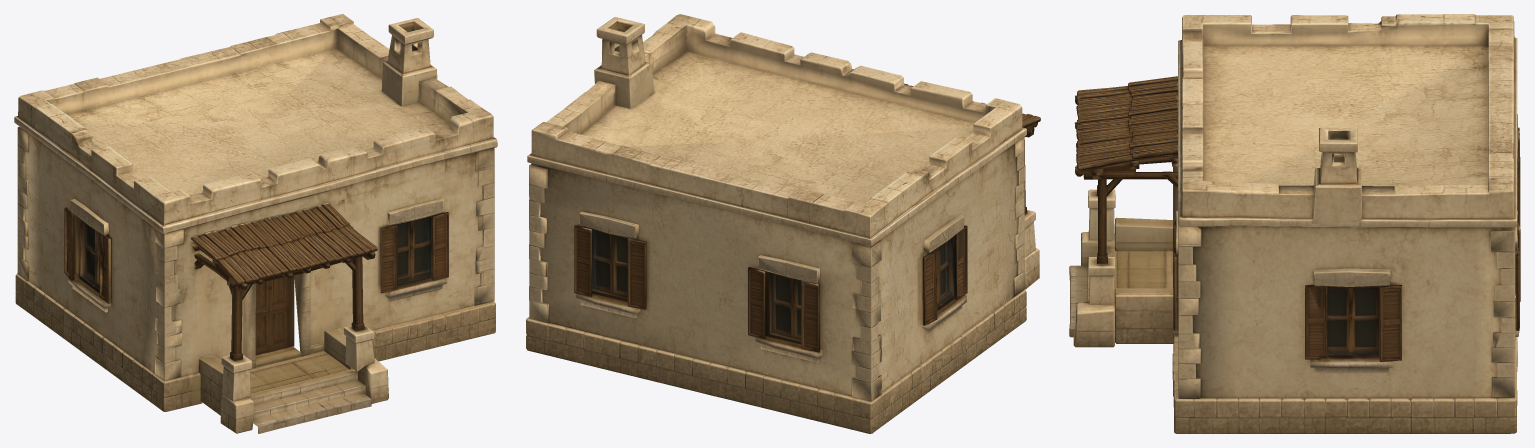
File: generated-1948-03-netanya-flat-roof-porch-house.glb
3 renders of one model, left to right at view 1: azimuth 30°, elevation 25°; view 2: azimuth 150°, elevation 25°; view 3: azimuth 270°, elevation 25°, orthographic. The views are drawn at different scales.
Visible parts, largest first — view 1: tripo_node_f0d07775-6e3f-415b-b792-ab4b17a9780b; view 2: tripo_node_f0d07775-6e3f-415b-b792-ab4b17a9780b; view 3: tripo_node_f0d07775-6e3f-415b-b792-ab4b17a9780b.
Boxes of the visible parts, bbox=[...] form: tripo_node_f0d07775-6e3f-415b-b792-ab4b17a9780b: bbox=[14, 14, 497, 433]; tripo_node_f0d07775-6e3f-415b-b792-ab4b17a9780b: bbox=[526, 14, 1040, 433]; tripo_node_f0d07775-6e3f-415b-b792-ab4b17a9780b: bbox=[1069, 14, 1520, 433].
Size of the model in its own units: 0.9233 by 0.6567 by 0.9214.
Materials: 1 (1 with a texture image).
